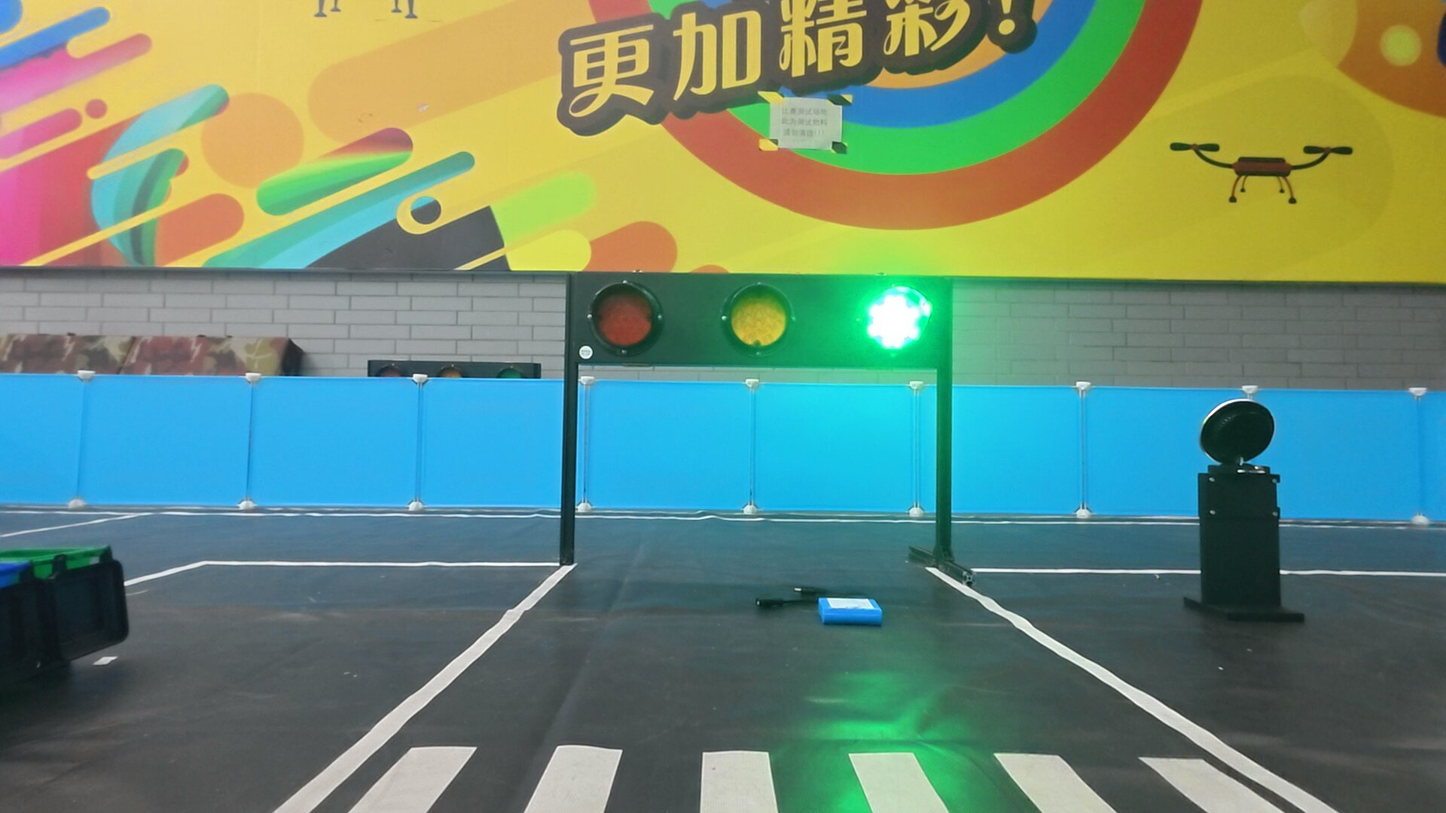go: (860, 282, 935, 359)
